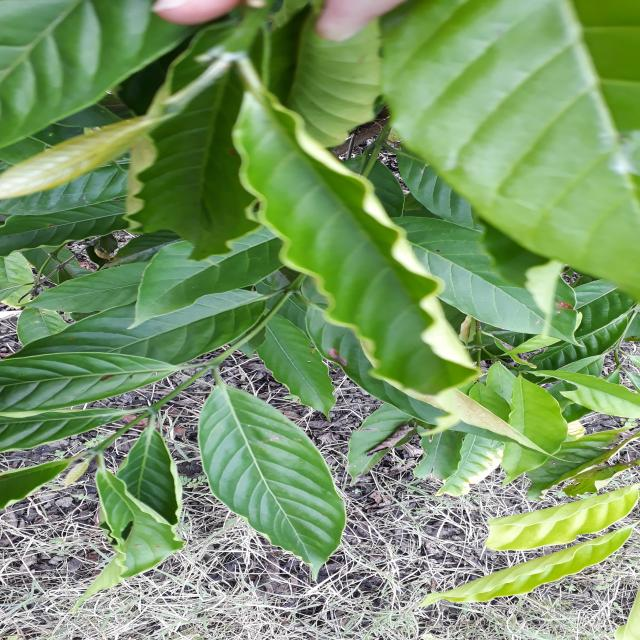Sanas: (232, 56, 478, 408)
